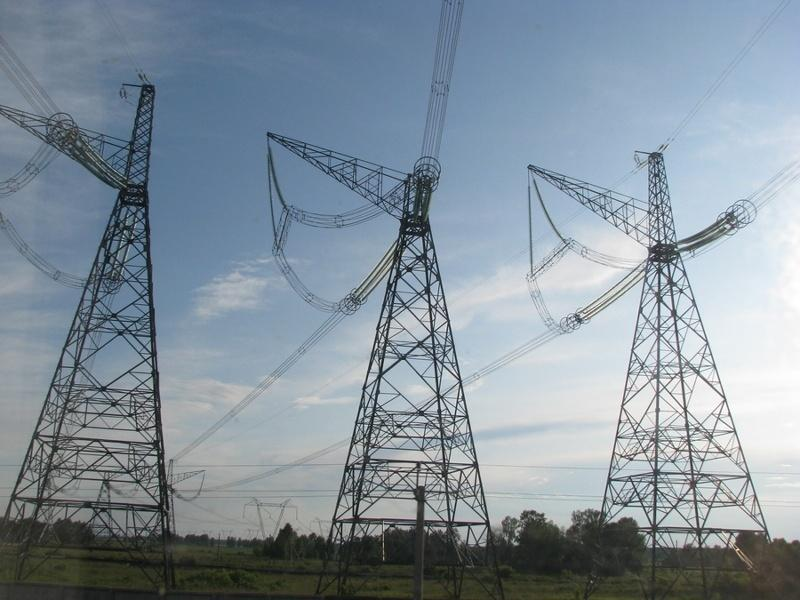power_tower: (0, 58, 232, 566), (318, 130, 479, 559), (610, 164, 760, 539)
